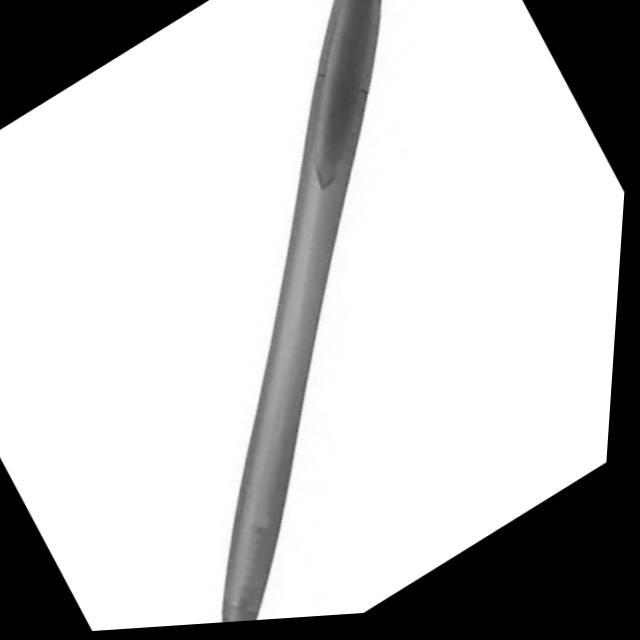pencil: (207, 0, 397, 639)
